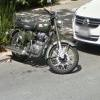Motorcycle: (4, 14, 86, 78)
